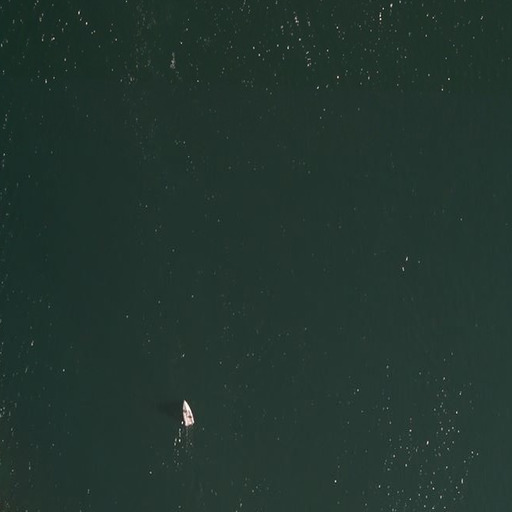ship: (178, 397, 198, 429)
